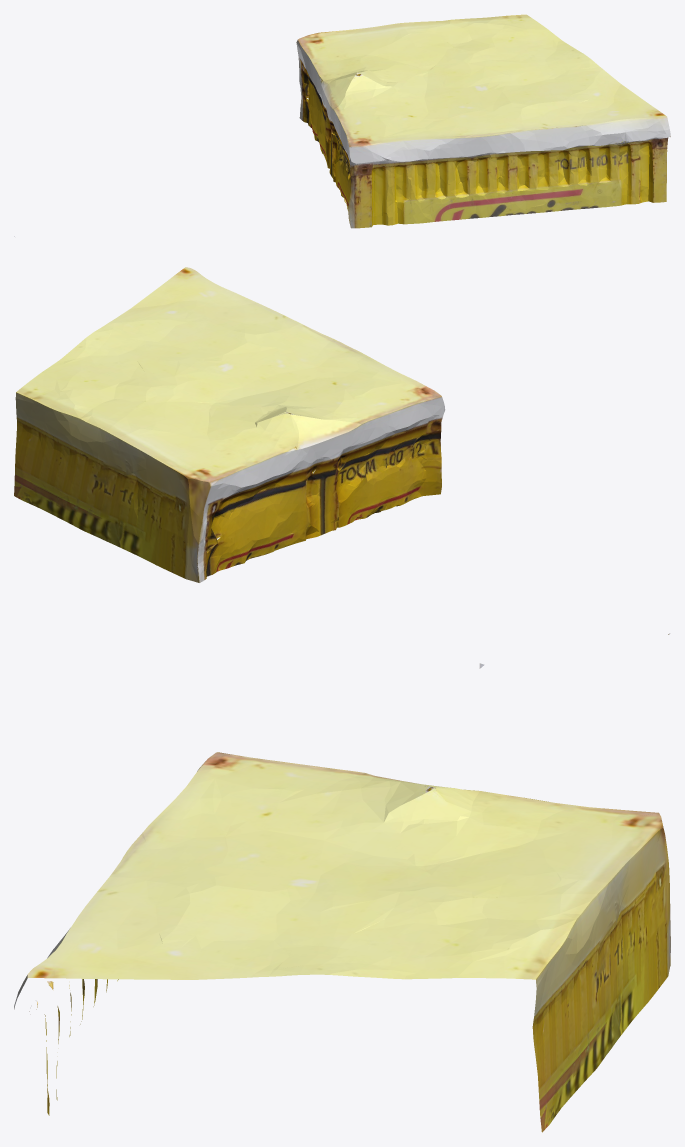
The picture shows the model from 3 angles, top to bottom: view 1: azimuth 30°, elevation 25°; view 2: azimuth 150°, elevation 25°; view 3: azimuth 270°, elevation 25°; orthographic projection. The views are drawn at different scales.
Bounding box in the file's own units: 5.65 × 0.9726 × 3.37.
Materials: 1 (1 with a texture image).
